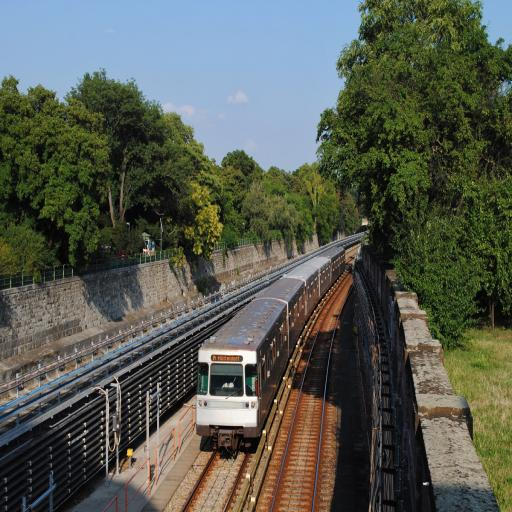Silberpfeil: (196, 245, 346, 434)
